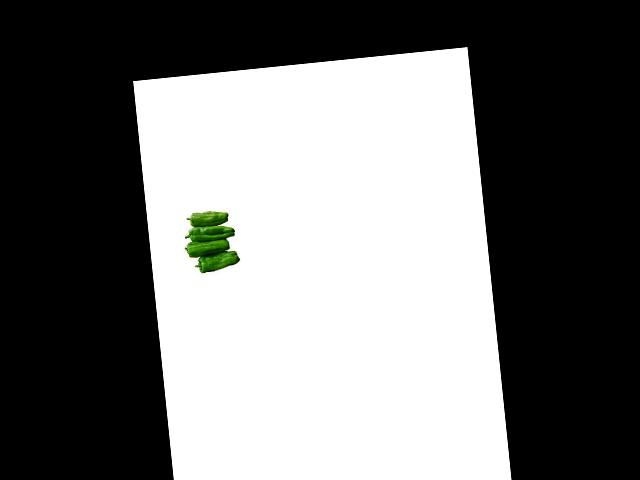bell_pepper: (191, 249, 244, 274)
